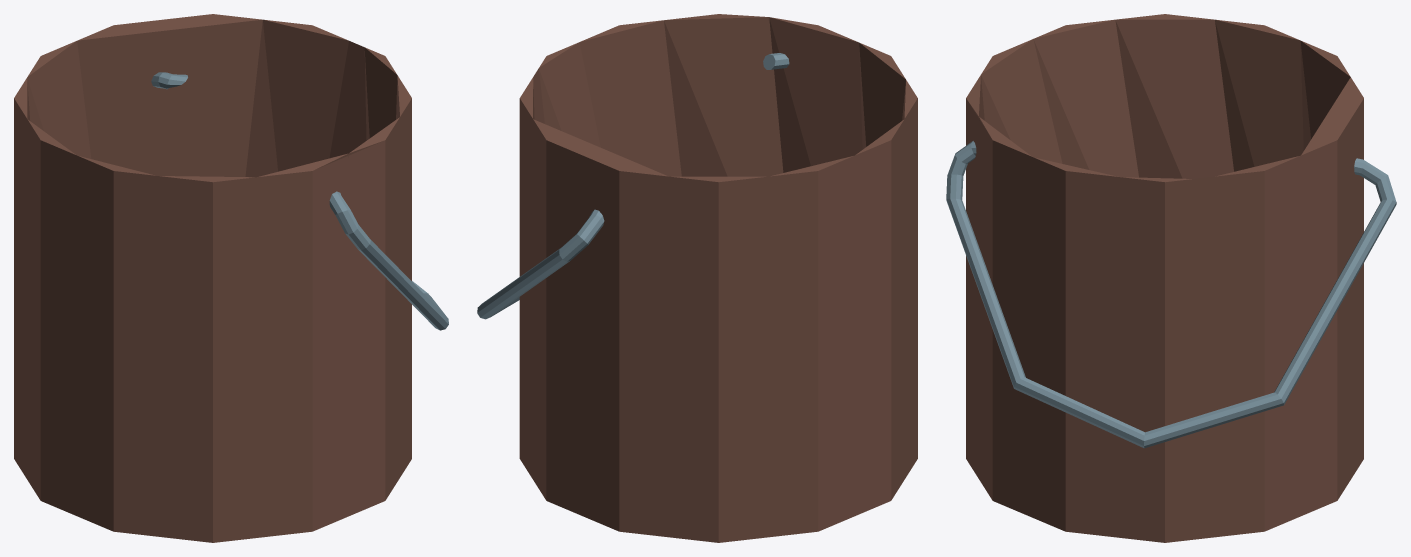
3 views of the same model, side by side, from view 1: azimuth 30°, elevation 25°; view 2: azimuth 150°, elevation 25°; view 3: azimuth 270°, elevation 25° (orthographic).
Parts seen in each view (by area): view 1: mesh_315646104, group_691831869; view 2: mesh_315646104, group_691831869; view 3: mesh_315646104, group_691831869.
Boxes of the visible parts, <box> form: mesh_315646104: <box>14,14,411,542</box>; group_691831869: <box>151,72,448,330</box>; mesh_315646104: <box>519,14,917,542</box>; group_691831869: <box>477,53,789,319</box>; mesh_315646104: <box>966,14,1363,542</box>; group_691831869: <box>946,141,1396,448</box>.
Bounding box in the file's own units: 151 × 138 × 155.
